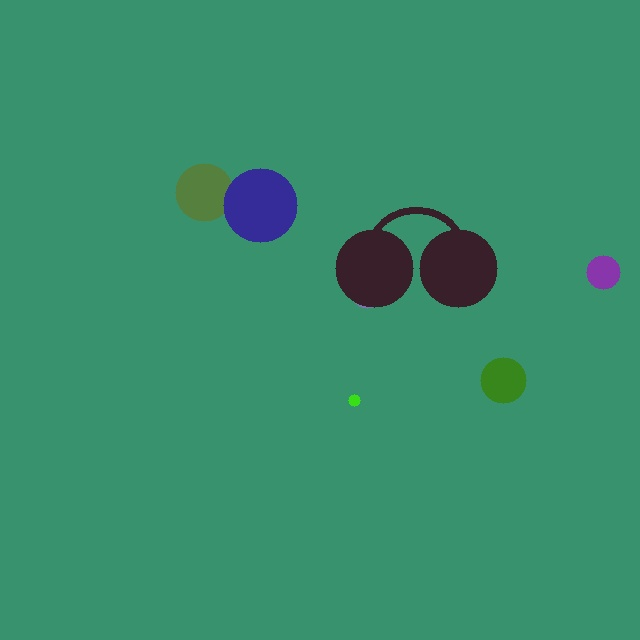over_ear: (331, 200, 501, 311)
